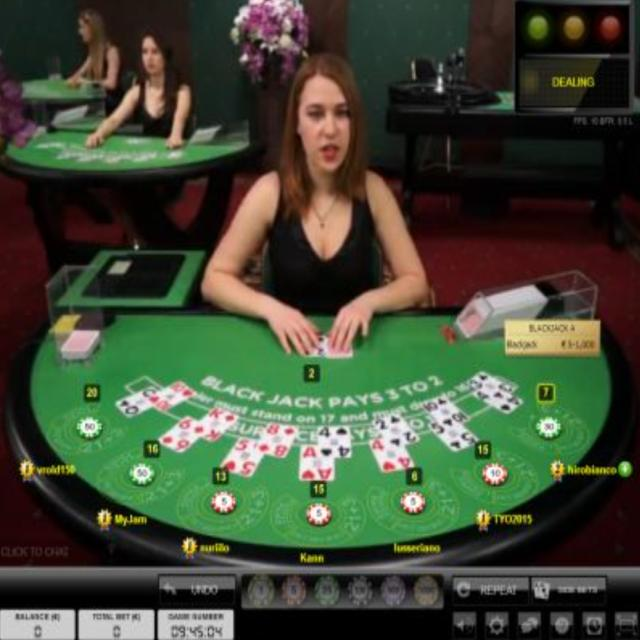Card-10: (421, 394, 468, 429), (151, 380, 196, 412)
Card-2: (372, 412, 419, 450)
Card-3: (466, 370, 519, 399)
Card-4: (368, 440, 413, 472), (473, 389, 524, 414), (319, 426, 350, 459)
Card-5: (220, 436, 262, 477), (428, 419, 479, 451)
Card-6: (158, 415, 199, 453)
Card-8: (258, 422, 297, 457)
Card-A: (298, 443, 334, 479)
Card-K: (191, 406, 239, 443)
Card-Q: (114, 384, 159, 418)
